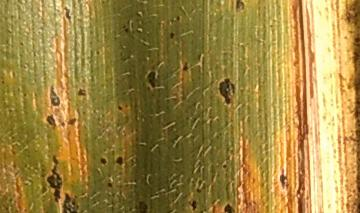tarspot: (46, 153, 61, 203), (217, 78, 238, 105), (61, 192, 80, 213), (48, 84, 61, 107), (278, 166, 289, 190), (146, 69, 157, 87), (62, 5, 73, 22), (46, 113, 57, 129), (134, 201, 147, 213), (234, 1, 246, 13), (114, 155, 124, 167), (98, 156, 109, 166), (188, 199, 197, 211), (67, 117, 77, 127), (223, 203, 233, 213), (181, 60, 189, 72), (77, 88, 86, 97), (121, 23, 129, 33), (168, 31, 175, 41), (198, 207, 209, 213), (195, 186, 202, 194), (106, 181, 113, 189), (18, 40, 25, 47), (175, 15, 181, 22), (117, 105, 123, 112), (95, 49, 101, 56), (22, 92, 28, 98), (222, 163, 227, 169), (1, 80, 5, 86)
